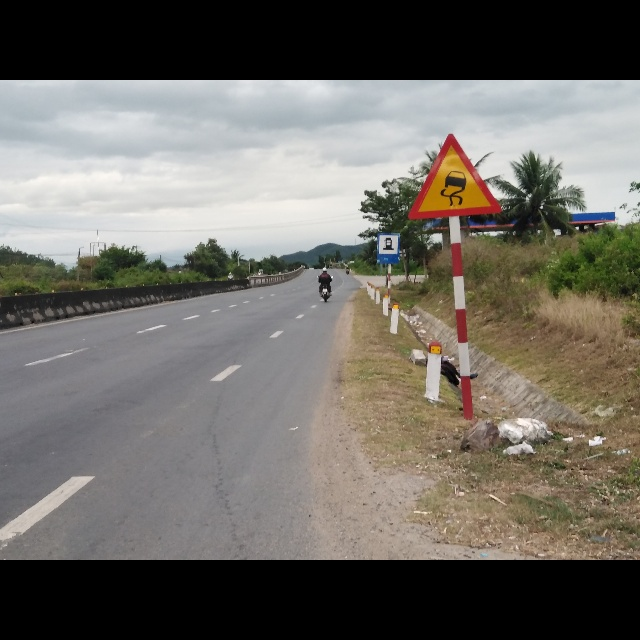Đường trơn trượt: (406, 132, 505, 220)
